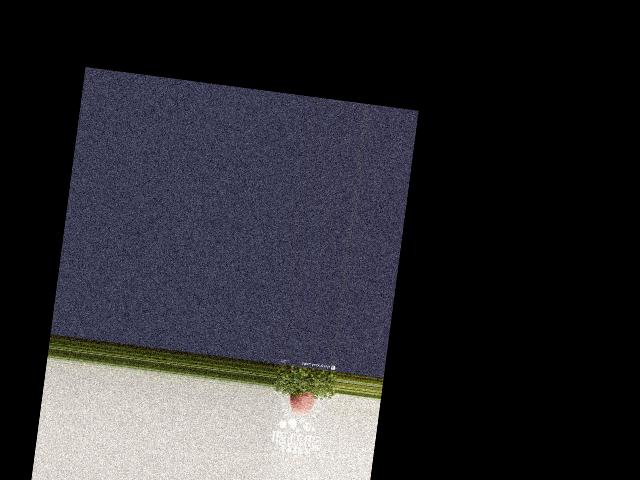egg: (286, 389, 314, 416)
